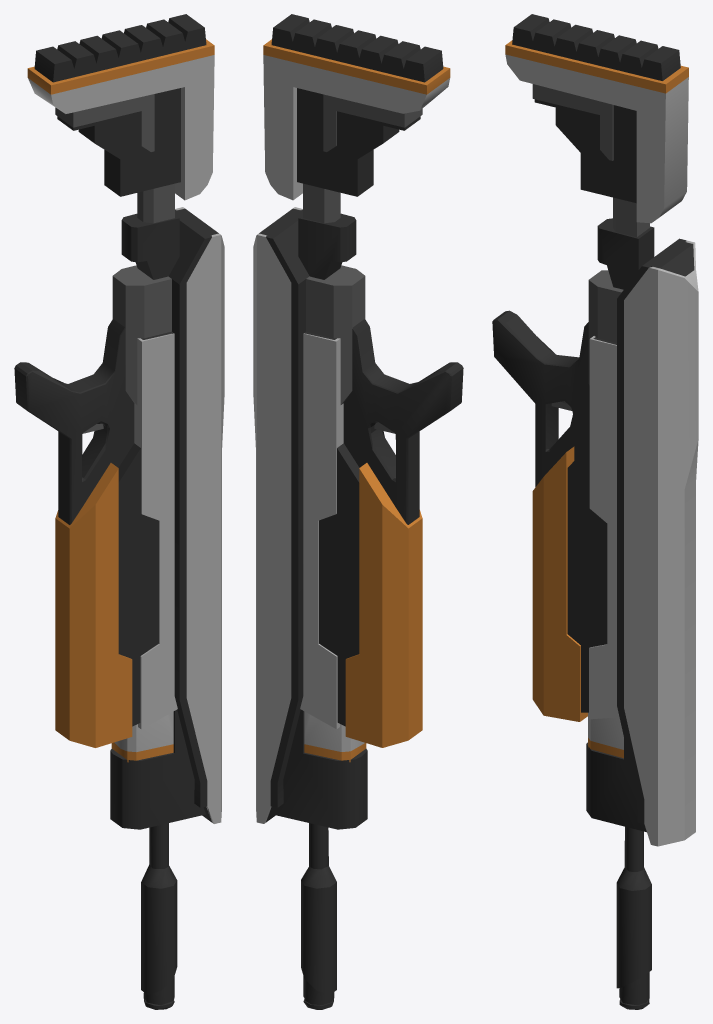
File: qg-sniper-2-lod2.glb
The picture shows the model from 3 angles, left to right: view 1: azimuth 30°, elevation 25°; view 2: azimuth 150°, elevation 25°; view 3: azimuth 330°, elevation 25°; orthographic projection.
Visible parts, largest first — view 1: WeaponMesh_qg-sniper-2_Sniper_2; view 2: WeaponMesh_qg-sniper-2_Sniper_2; view 3: WeaponMesh_qg-sniper-2_Sniper_2.
Boxes of the visible parts, x1=… form: WeaponMesh_qg-sniper-2_Sniper_2: x1=14, y1=14, x2=224, y2=1009; WeaponMesh_qg-sniper-2_Sniper_2: x1=253, y1=14, x2=463, y2=1009; WeaponMesh_qg-sniper-2_Sniper_2: x1=492, y1=14, x2=698, y2=1009.
Size of the model in its own units: 0.3117 by 1.42 by 0.1007.
